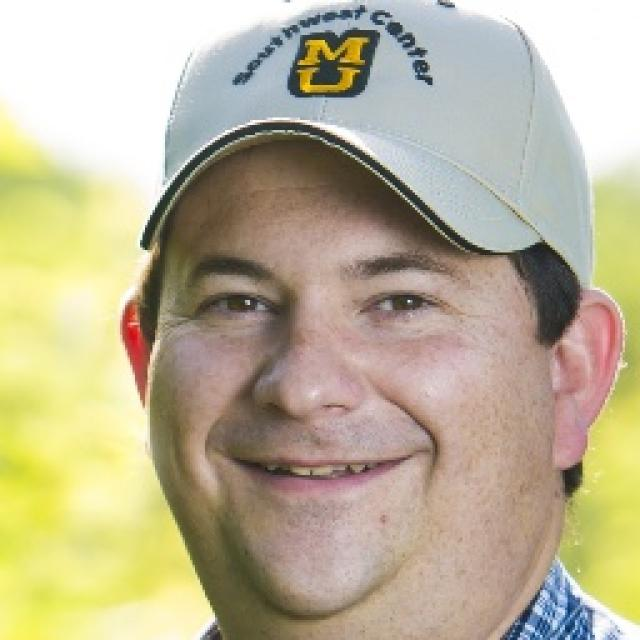earlobe: (551, 288, 626, 472)
